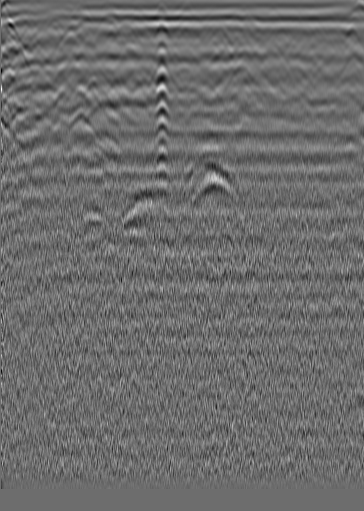가스: (78, 191, 114, 229)
상수: (310, 28, 330, 48)
오수: (40, 14, 60, 34)
우수: (211, 23, 231, 43)
